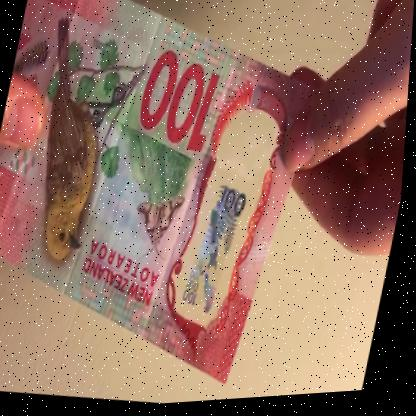100B: (180, 133, 266, 323)
